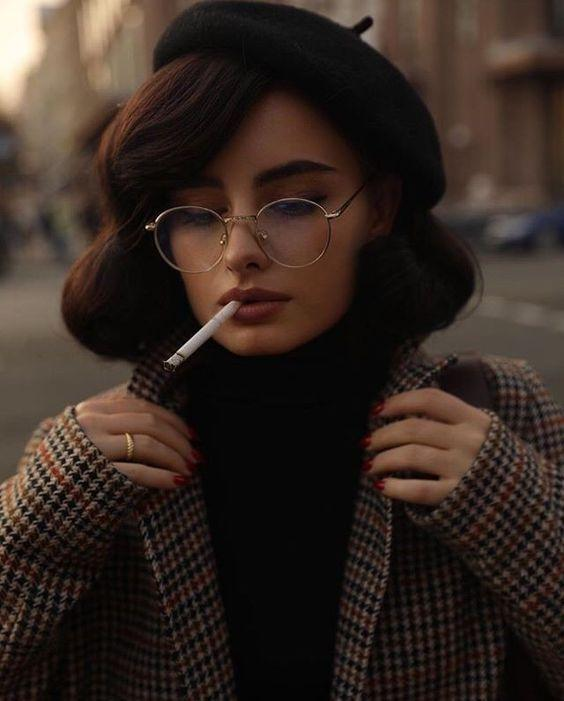cigarette: (163, 301, 241, 372)
